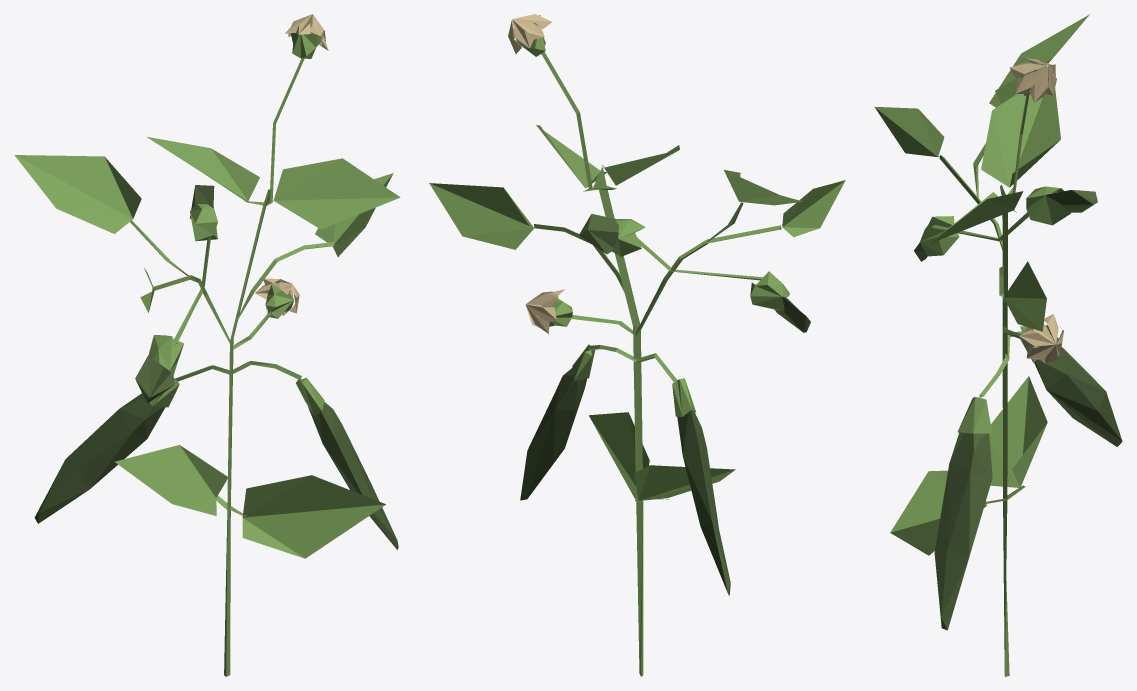
Rendered from Peppers_5.fbx.
The picture shows the model from 3 angles, left to right: view 1: azimuth 30°, elevation 25°; view 2: azimuth 150°, elevation 25°; view 3: azimuth 270°, elevation 25°; orthographic projection. The views are drawn at different scales.
Parts seen in each view (by area): view 1: Peppers_5; view 2: Peppers_5; view 3: Peppers_5.
Part boxes in pixels (left/top/right/bottom): Peppers_5: left=14, top=14, right=400, bottom=676; Peppers_5: left=429, top=14, right=845, bottom=676; Peppers_5: left=874, top=14, right=1122, bottom=676.
Bounding box in the file's own units: 60.22 × 99.78 × 33.68.
